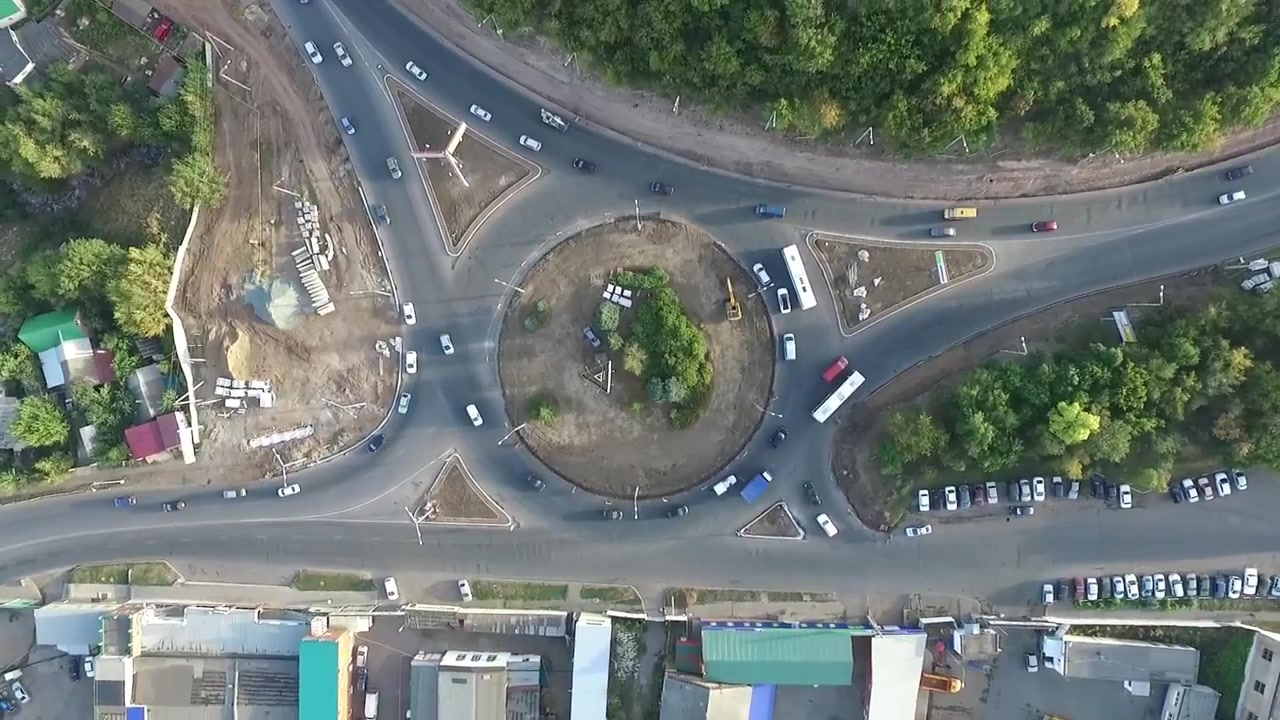car: (808, 368, 868, 426), (779, 243, 818, 311), (740, 469, 775, 506), (919, 671, 964, 695), (538, 107, 570, 134), (821, 355, 849, 384), (712, 472, 737, 498), (816, 511, 839, 539), (332, 41, 354, 69), (802, 479, 823, 507), (767, 425, 791, 449), (403, 60, 429, 82), (303, 39, 324, 66), (752, 202, 787, 218), (363, 689, 381, 720), (468, 103, 494, 124), (751, 261, 772, 287), (941, 207, 980, 221), (1212, 472, 1232, 498), (781, 332, 798, 362), (1217, 189, 1247, 206), (365, 432, 386, 456), (517, 134, 542, 154), (525, 471, 547, 493), (775, 287, 792, 315), (1226, 164, 1254, 181), (1181, 478, 1199, 504), (11, 681, 31, 704), (582, 326, 602, 349), (571, 157, 598, 174), (373, 203, 392, 227), (465, 402, 483, 427), (664, 503, 689, 521), (1197, 476, 1215, 501), (1243, 567, 1259, 595), (385, 155, 402, 181), (276, 482, 301, 499), (382, 576, 399, 601), (401, 301, 418, 326), (1167, 573, 1184, 598), (905, 523, 933, 538), (153, 18, 172, 40), (457, 577, 473, 603), (1124, 573, 1139, 600), (396, 391, 412, 416), (1031, 219, 1059, 233), (439, 333, 456, 356), (649, 181, 675, 196), (1117, 483, 1132, 509), (1212, 574, 1227, 600), (1231, 467, 1247, 491), (943, 484, 957, 511), (957, 483, 971, 510), (971, 482, 985, 509), (354, 643, 369, 668), (984, 480, 999, 505), (1227, 574, 1242, 599), (113, 494, 139, 508), (161, 499, 187, 513), (1031, 476, 1045, 502), (927, 225, 957, 237), (339, 115, 356, 136), (1168, 481, 1184, 503), (67, 656, 80, 683), (404, 350, 418, 375), (1018, 478, 1032, 503), (354, 668, 369, 691), (222, 487, 248, 500), (1067, 476, 1080, 502), (1085, 575, 1098, 601), (1153, 573, 1166, 599), (1184, 572, 1197, 598), (600, 508, 624, 522), (917, 487, 930, 512), (931, 486, 944, 511), (1071, 575, 1084, 600), (1197, 573, 1210, 598), (1025, 652, 1039, 675), (82, 655, 95, 679), (1008, 505, 1034, 517), (1091, 475, 1104, 499), (1056, 577, 1069, 601), (1099, 575, 1112, 599), (1111, 575, 1124, 599), (1052, 474, 1064, 499), (1141, 573, 1153, 598), (1007, 478, 1019, 502), (1105, 480, 1117, 503), (1042, 583, 1054, 605), (1271, 574, 1280, 595)
